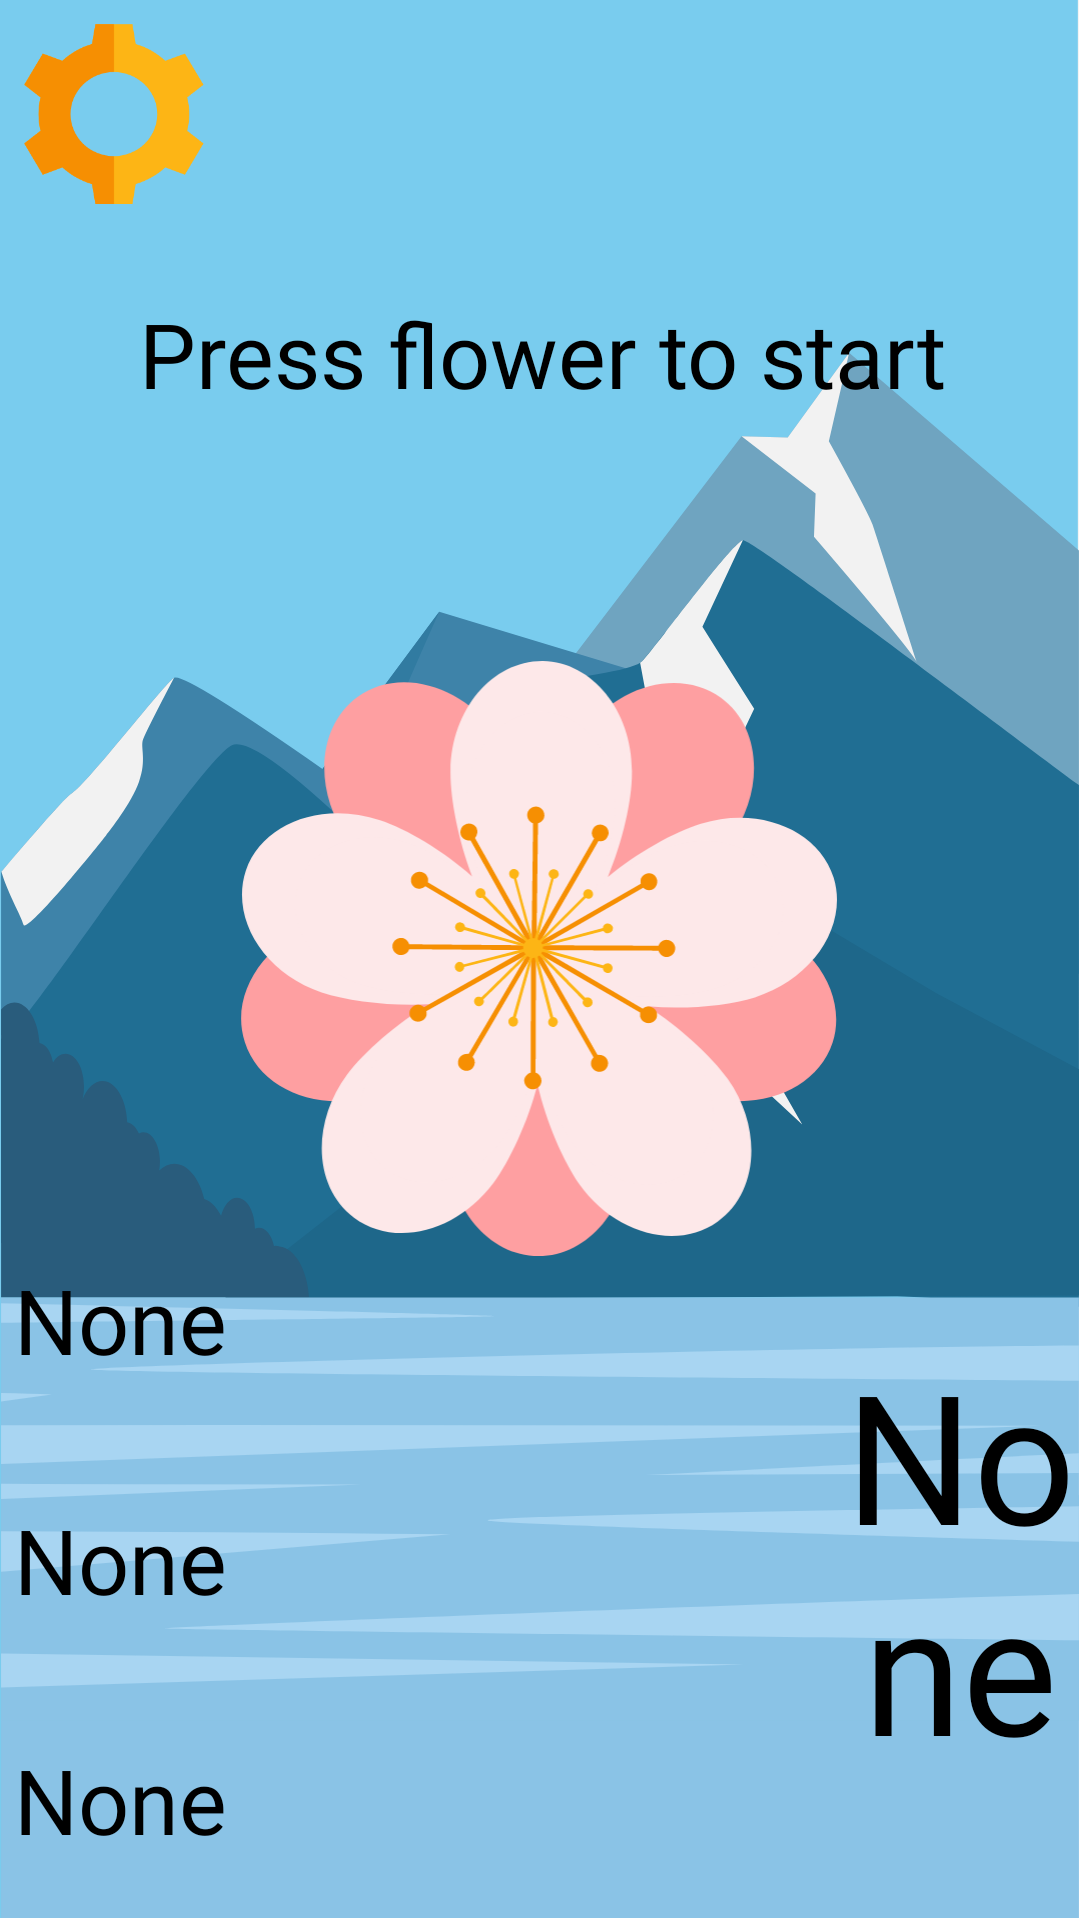

Screen size 1080 × 1920. Icon name, then its center in pixels as [x,y]:
settings: [114,114]
